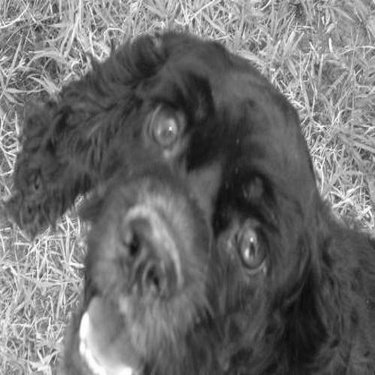dog: (1, 24, 368, 371)
